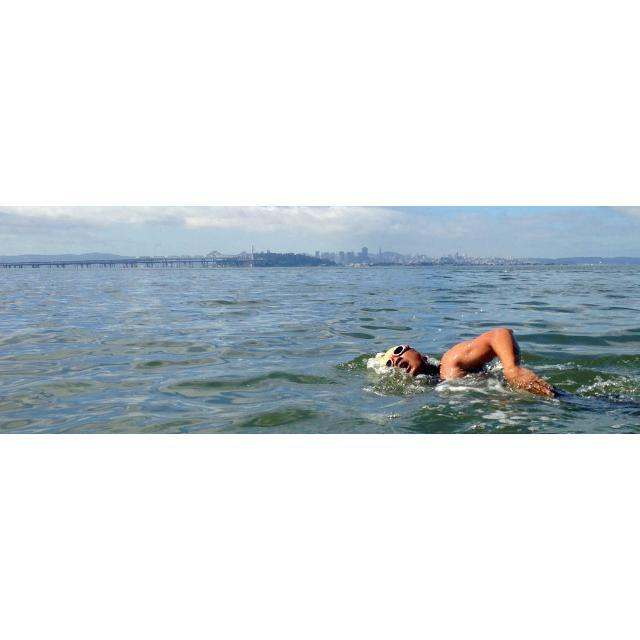human: (383, 327, 567, 400)
